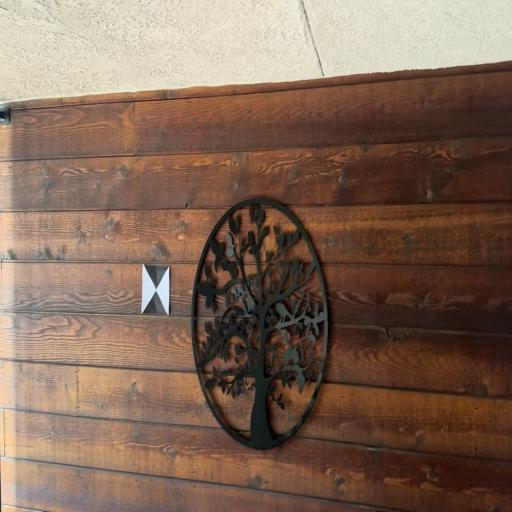target: (142, 265, 170, 315)
